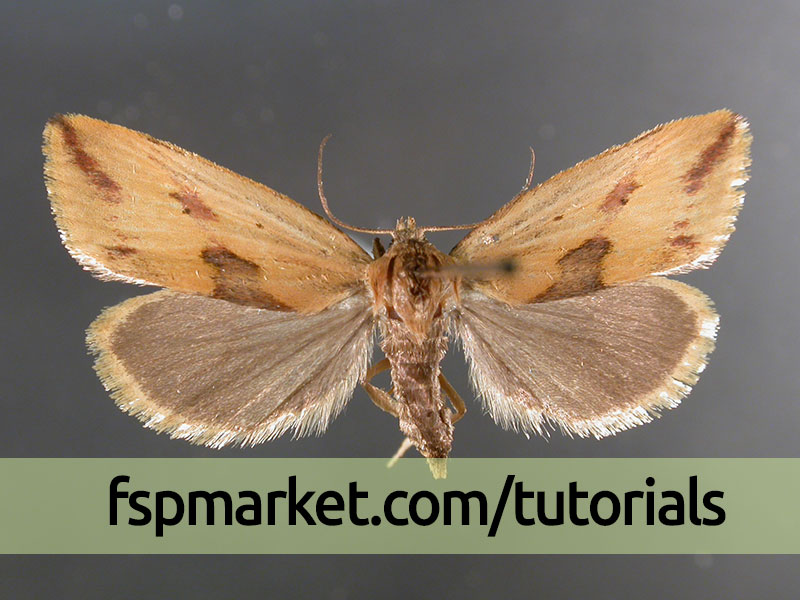Noctuidae: (42, 108, 758, 483)
